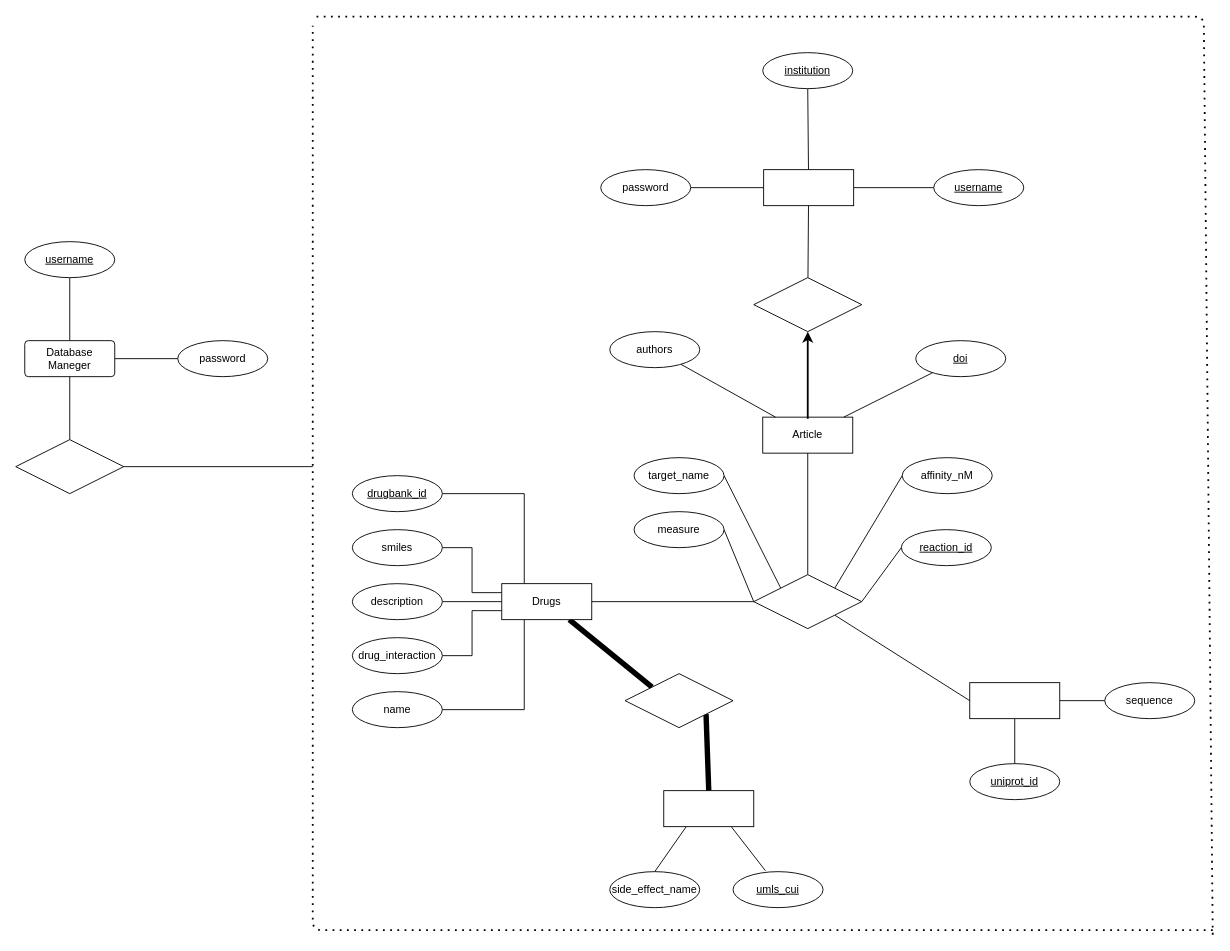
Image size: 1230x951. Some labels were removed from this diagram. The shapes that lost their labels are listed below. From the top down, each one's centre as x and y in pixels, then its label:
At point 808,187: "User".
At point 807,304: "first author".
At point 69,466: "manages".
At point 807,601: "reaction".
At point 678,700: "has".
At point 1014,700: "Proteins".
At point 708,808: "Side Effect".
